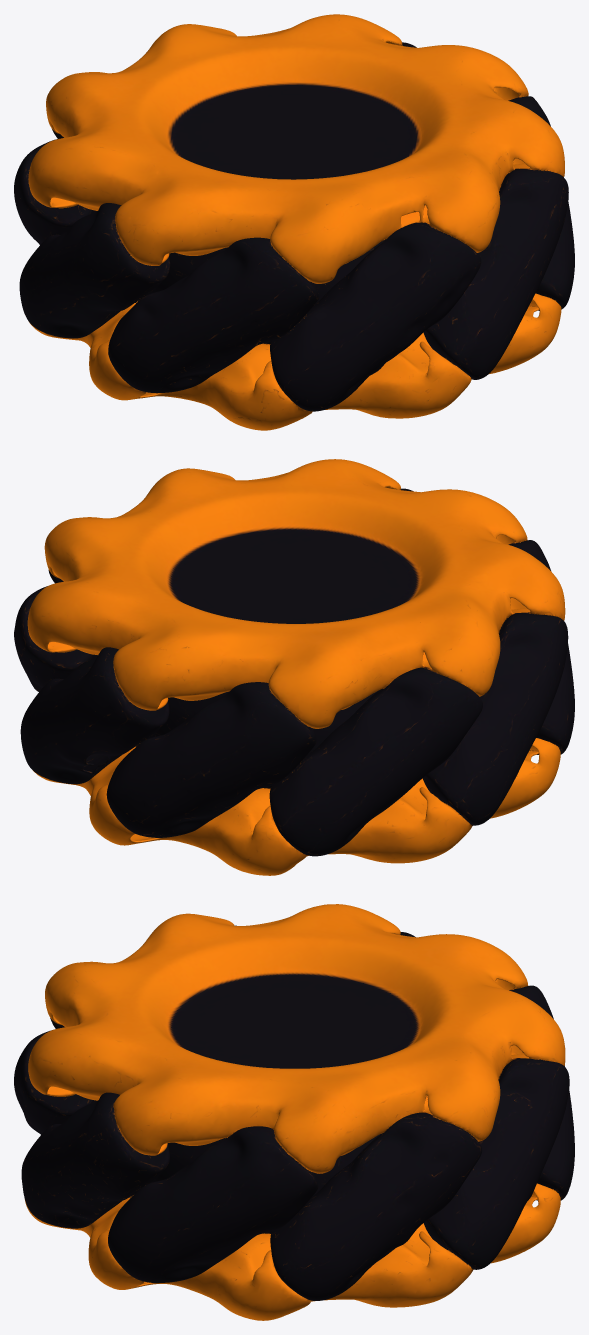
Rendered from 12_omniwheel_symtrellis.glb.
3 renders of one model, top to bottom at view 1: azimuth 30°, elevation 25°; view 2: azimuth 150°, elevation 25°; view 3: azimuth 270°, elevation 25°, orthographic.
Parts seen in each view (by area): view 1: world; view 2: world; view 3: world.
Boxes of the visible parts, box(x1,y1,x2,y2) form: world: box(14, 14, 574, 430); world: box(14, 459, 574, 875); world: box(14, 904, 574, 1320).
Bounding box in the file's own units: 0.9665 × 0.4326 × 0.9709.
Materials: 1 (1 with a texture image).
